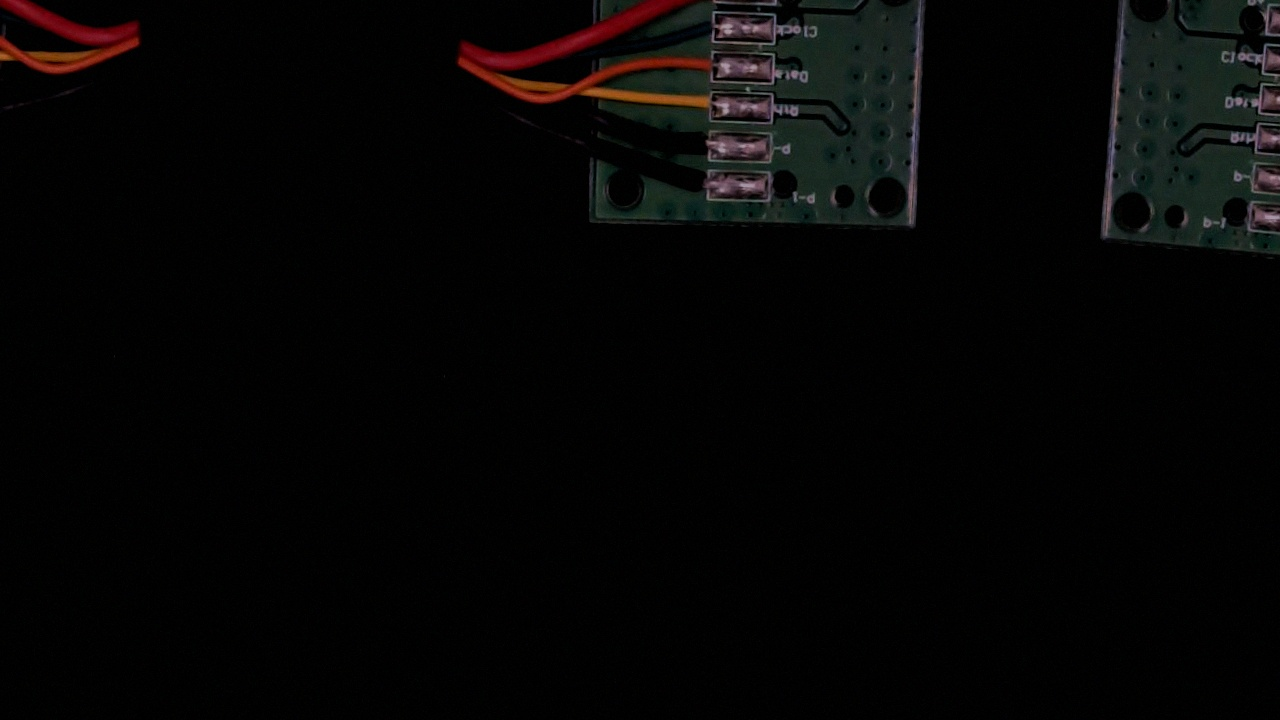Black: (658, 129, 728, 159)
Black1: (667, 166, 726, 201)
Green: (670, 9, 733, 41)
Orange: (668, 48, 730, 81)
Red: (670, 0, 734, 1)
Yellow: (660, 87, 730, 121)
